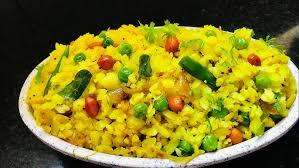poha: (25, 19, 299, 165)
